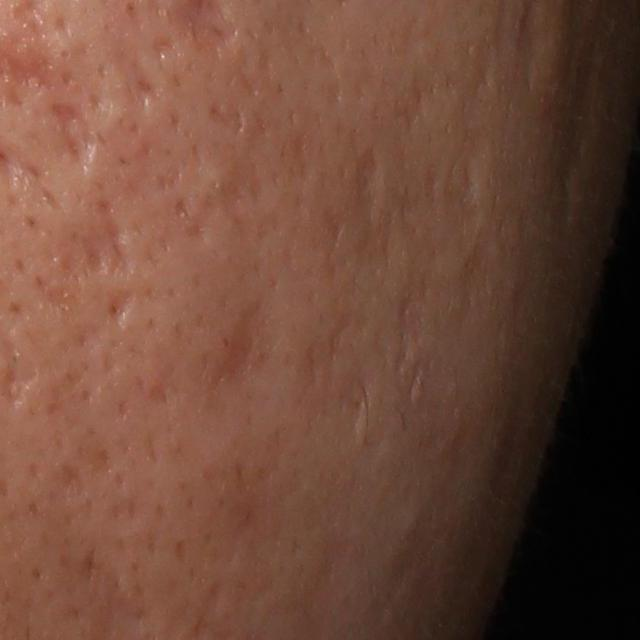atrophic_scar: (185, 135, 278, 238), (44, 201, 141, 288), (200, 293, 276, 395), (326, 145, 391, 250), (439, 139, 490, 225), (48, 98, 101, 171), (318, 367, 370, 440), (395, 279, 428, 378), (110, 41, 158, 103), (513, 1, 545, 92), (159, 144, 205, 192), (103, 287, 138, 328), (208, 97, 247, 133), (175, 196, 190, 220)
